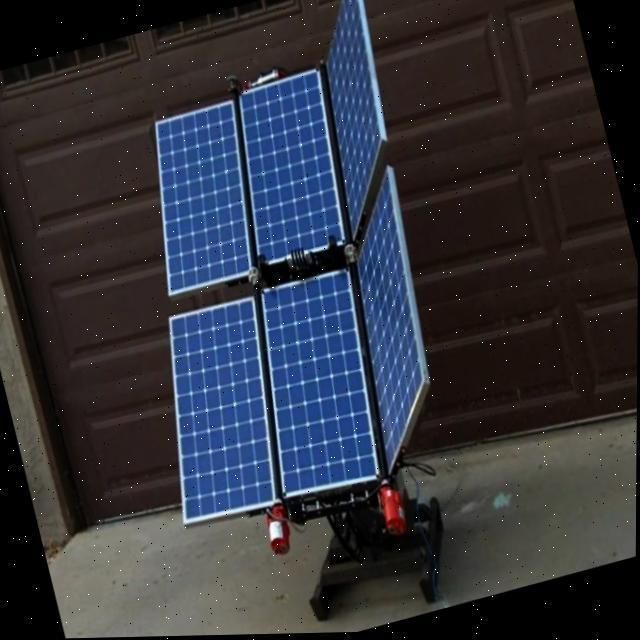Normal Solar Panel: (317, 165, 463, 475), (136, 296, 300, 532), (235, 270, 398, 503), (292, 0, 419, 240), (127, 100, 272, 300), (218, 70, 359, 268)
